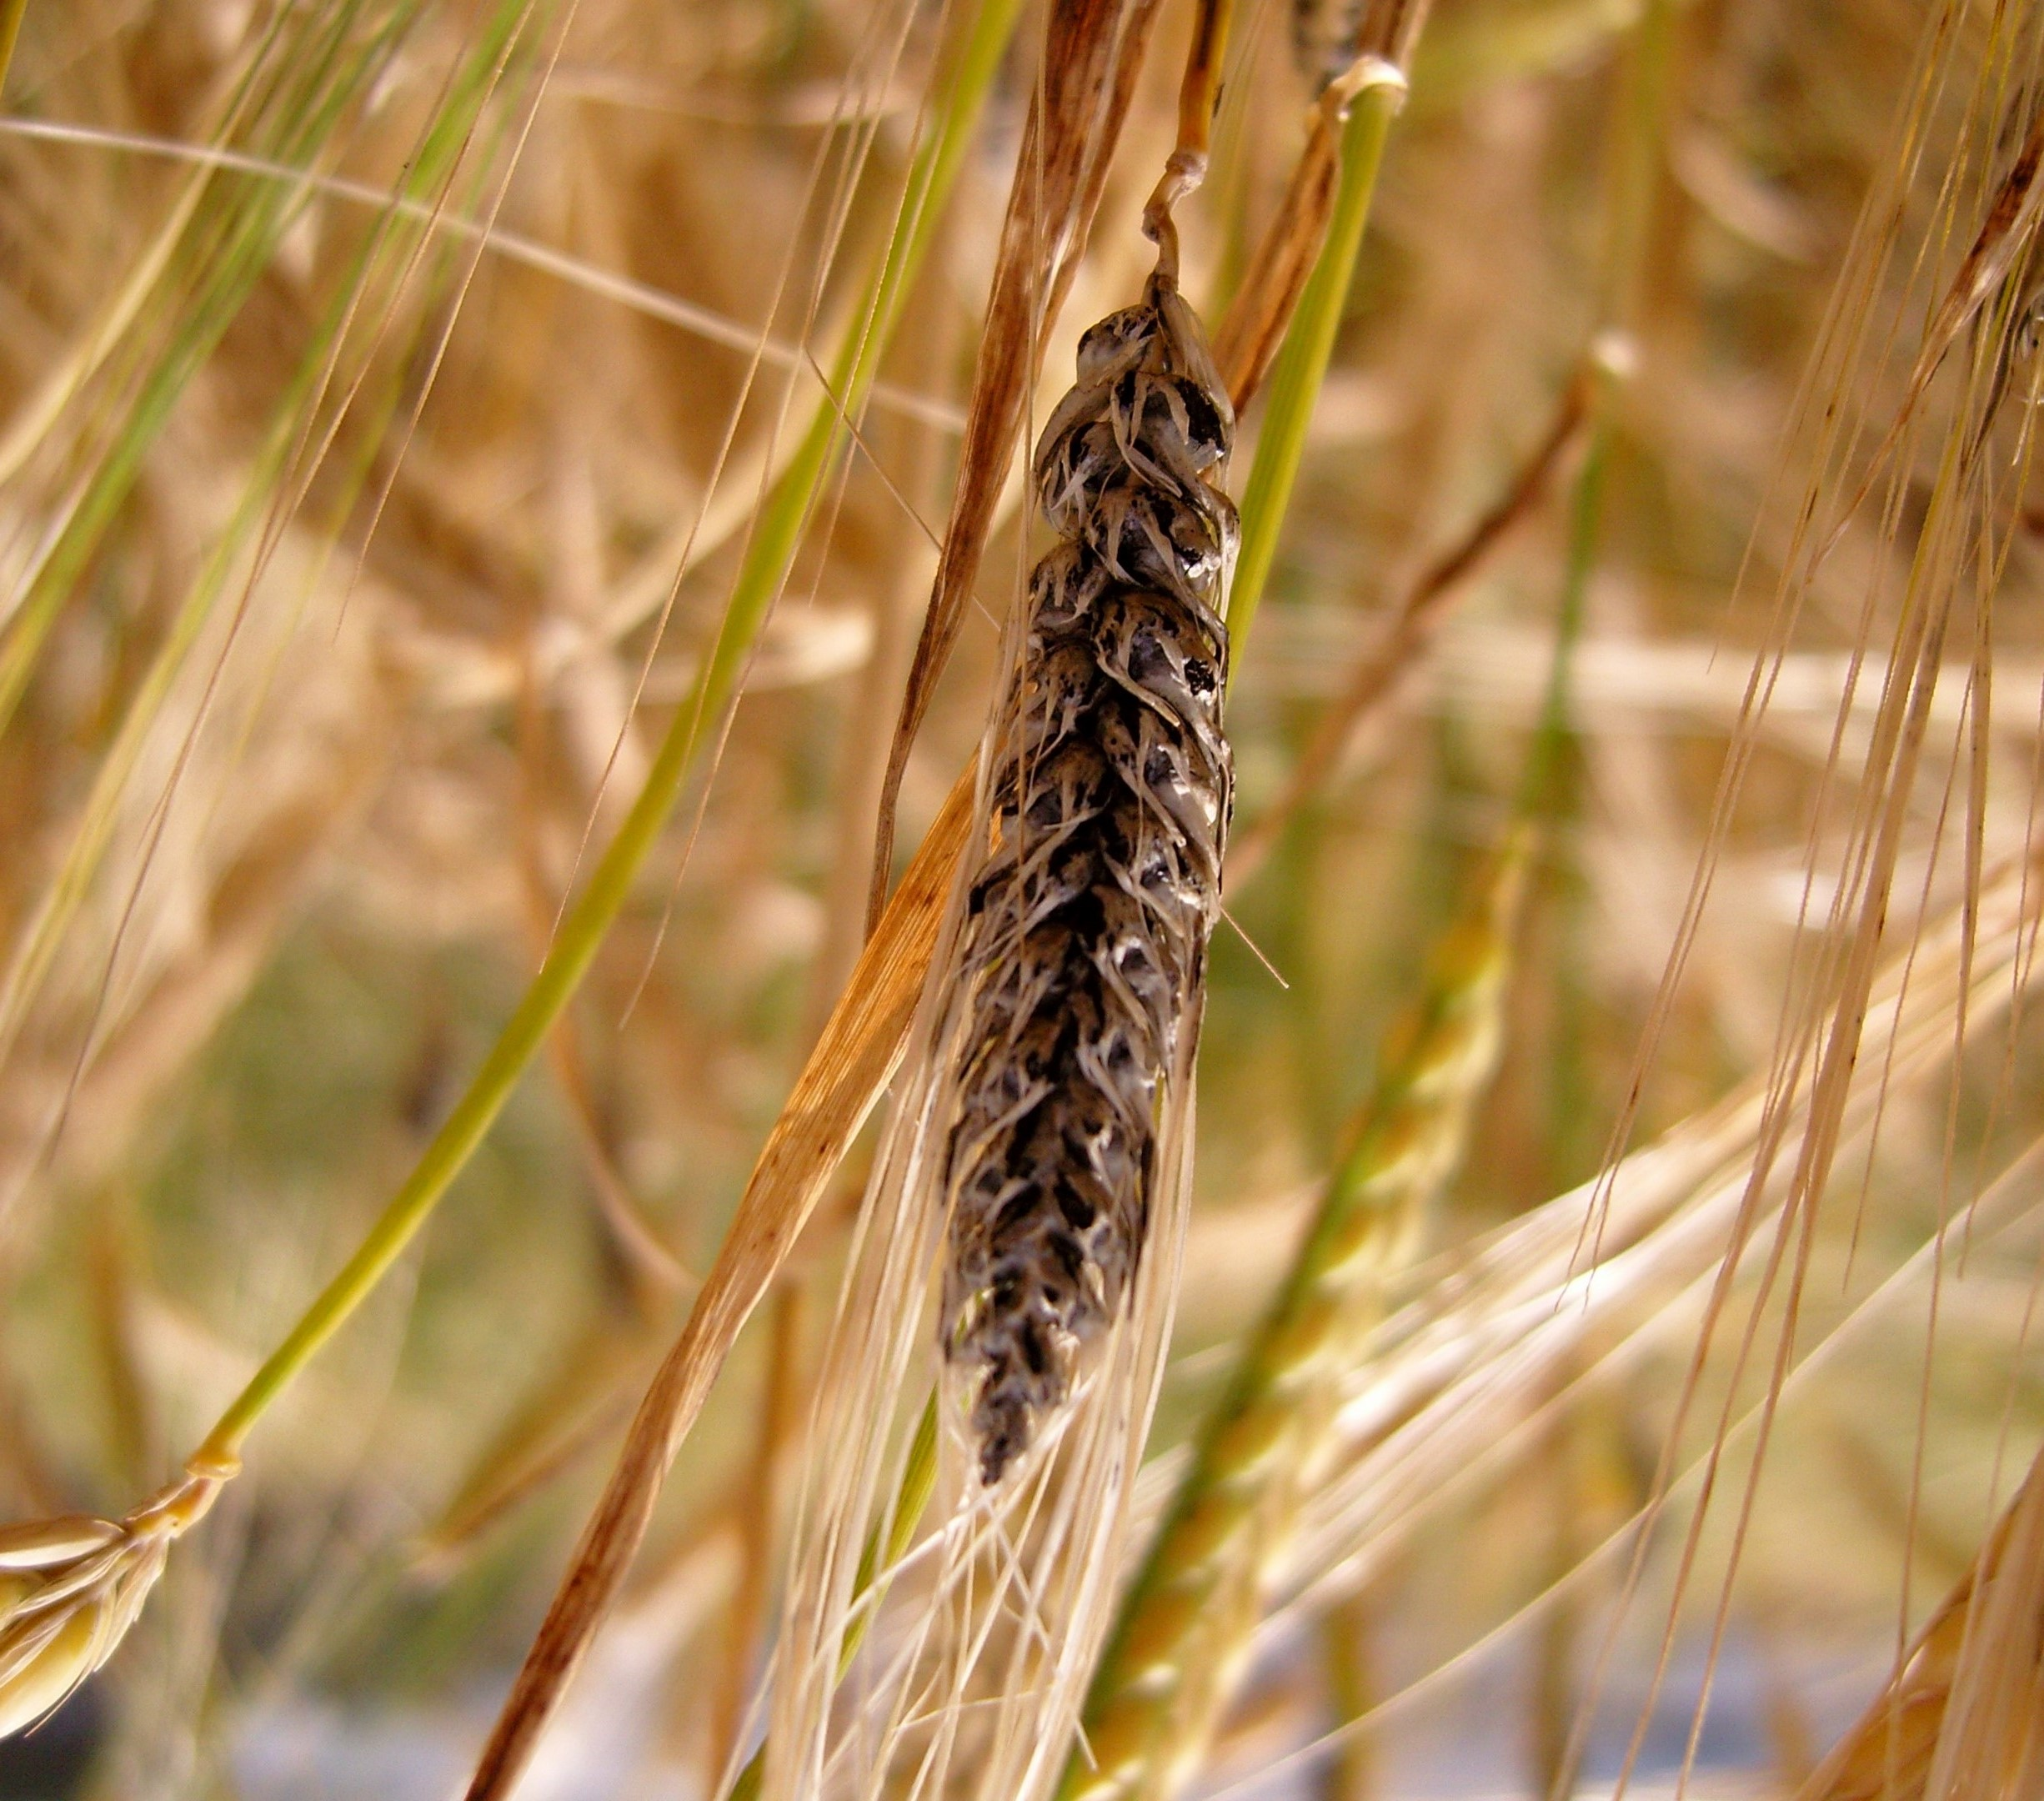Wheat Loose Smut: (935, 313, 1262, 1512)
